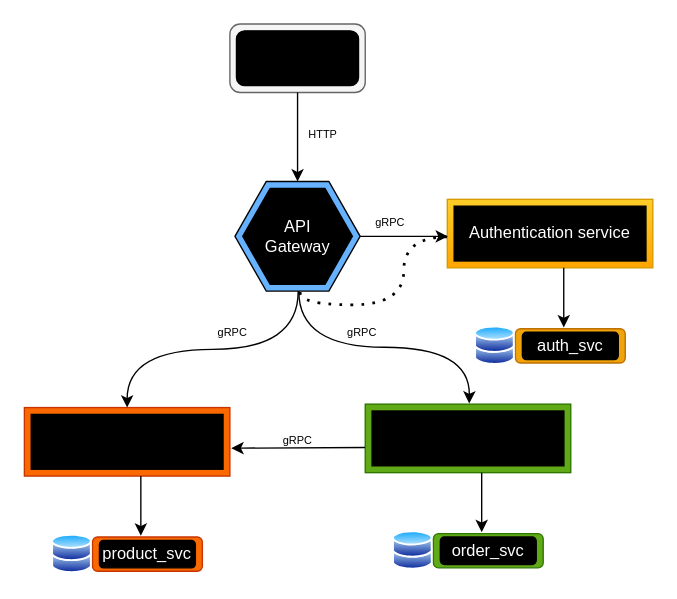
Image size: 677x599. Some labels were removed from this diagram. The centre of each missing label's shape, as x and y in pixels:
"Client" goes at (297,57).
"Order service" goes at (467,438).
"Product service" goes at (126,441).
